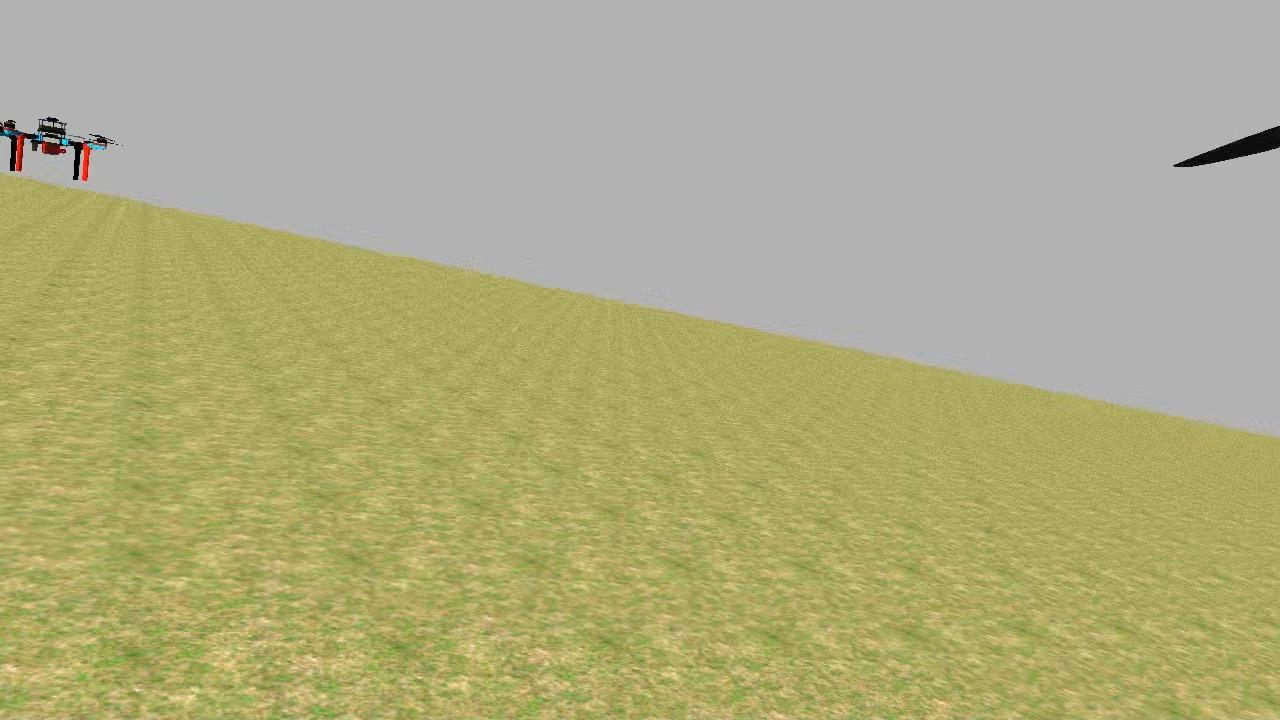UAV: (0, 106, 112, 190)
